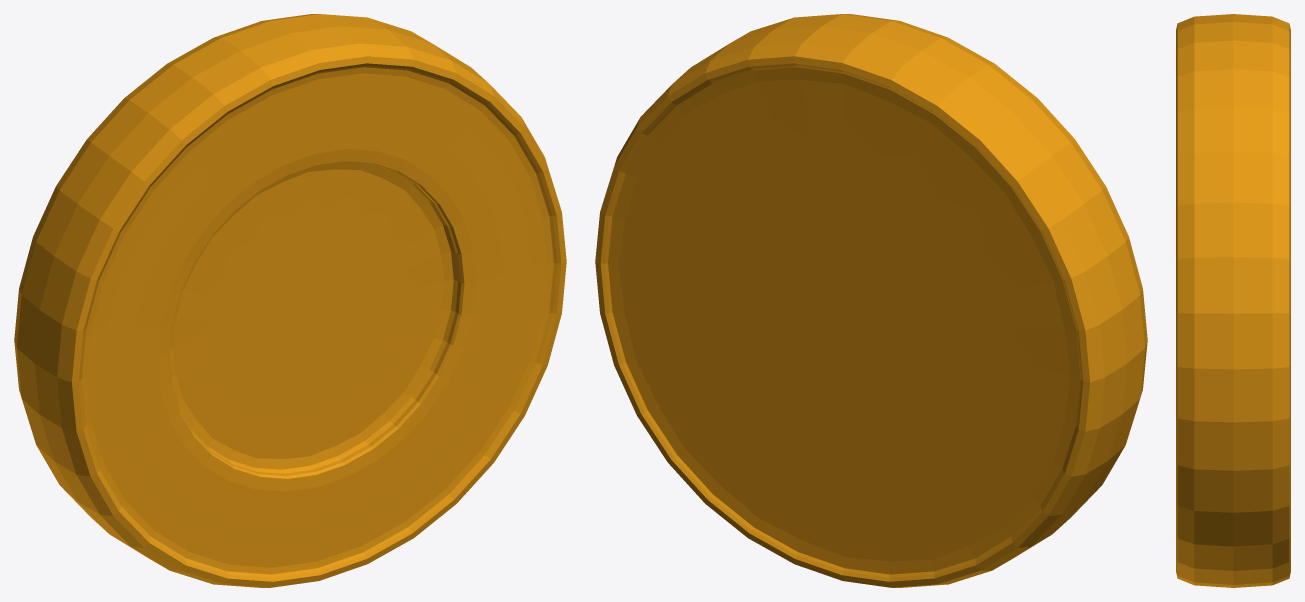
File: SM_Coin_XS.fbx
3 views of the same model, side by side, from view 1: azimuth 30°, elevation 25°; view 2: azimuth 150°, elevation 25°; view 3: azimuth 270°, elevation 25° (orthographic). The views are drawn at different scales.
Visible parts, largest first — view 1: Coin_XS; view 2: Coin_XS; view 3: Coin_XS.
Boxes of the visible parts, x1,y1,x2,y2 form: Coin_XS: (14, 14, 566, 587); Coin_XS: (595, 14, 1147, 587); Coin_XS: (1176, 14, 1290, 587).
Size of the model in its own units: 25 by 25 by 5.
